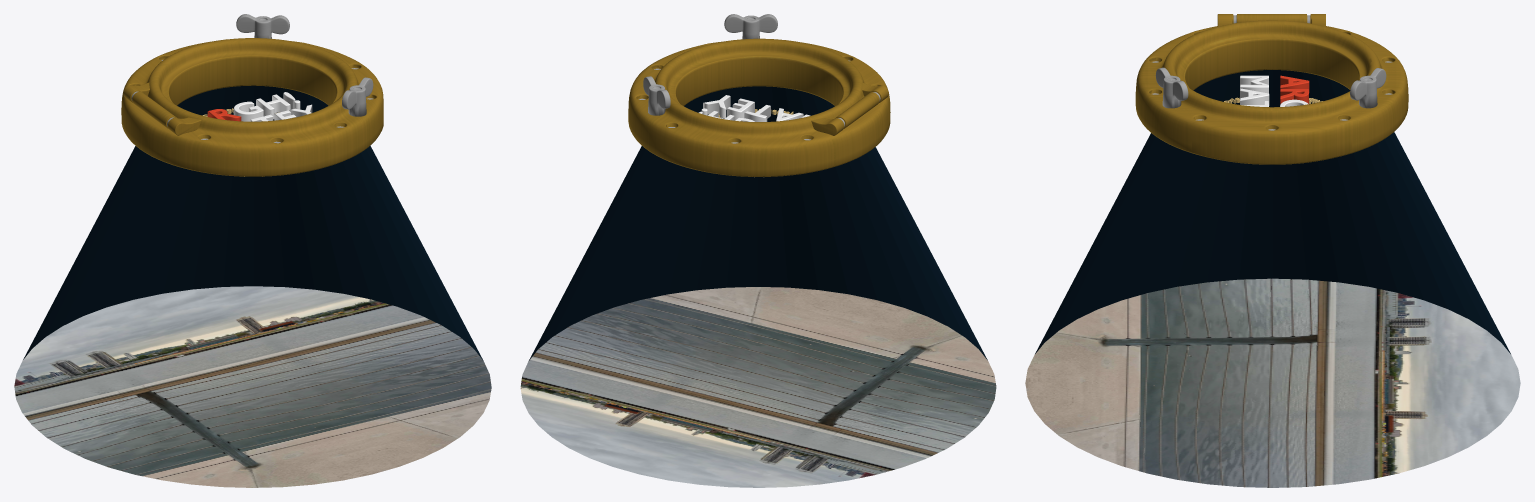
Rendered from porthole2_Text.glb.
3 renders of one model, left to right at view 1: azimuth 30°, elevation 25°; view 2: azimuth 150°, elevation 25°; view 3: azimuth 270°, elevation 25°, orthographic. The views are drawn at different scales.
Visible parts, largest first — view 1: contentPorthole, 15954_Portholes_v1, Argh; view 2: contentPorthole, 15954_Portholes_v1, Argh; view 3: contentPorthole, 15954_Portholes_v1, Argh.
Boxes of the visible parts, x1,y1,x2,y2 form: contentPorthole: (14,85,491,487); 15954_Portholes_v1: (121,14,383,176); Argh: (207,92,312,121); contentPorthole: (520,86,996,487); 15954_Portholes_v1: (628,14,890,176); Argh: (698,95,810,121); contentPorthole: (1025,70,1520,487); 15954_Portholes_v1: (1135,14,1408,164); Argh: (1240,75,1309,106).
Bounding box in the file's own units: 11.65 × 8.73 × 11.65.
Materials: 7 (3 with a texture image).
